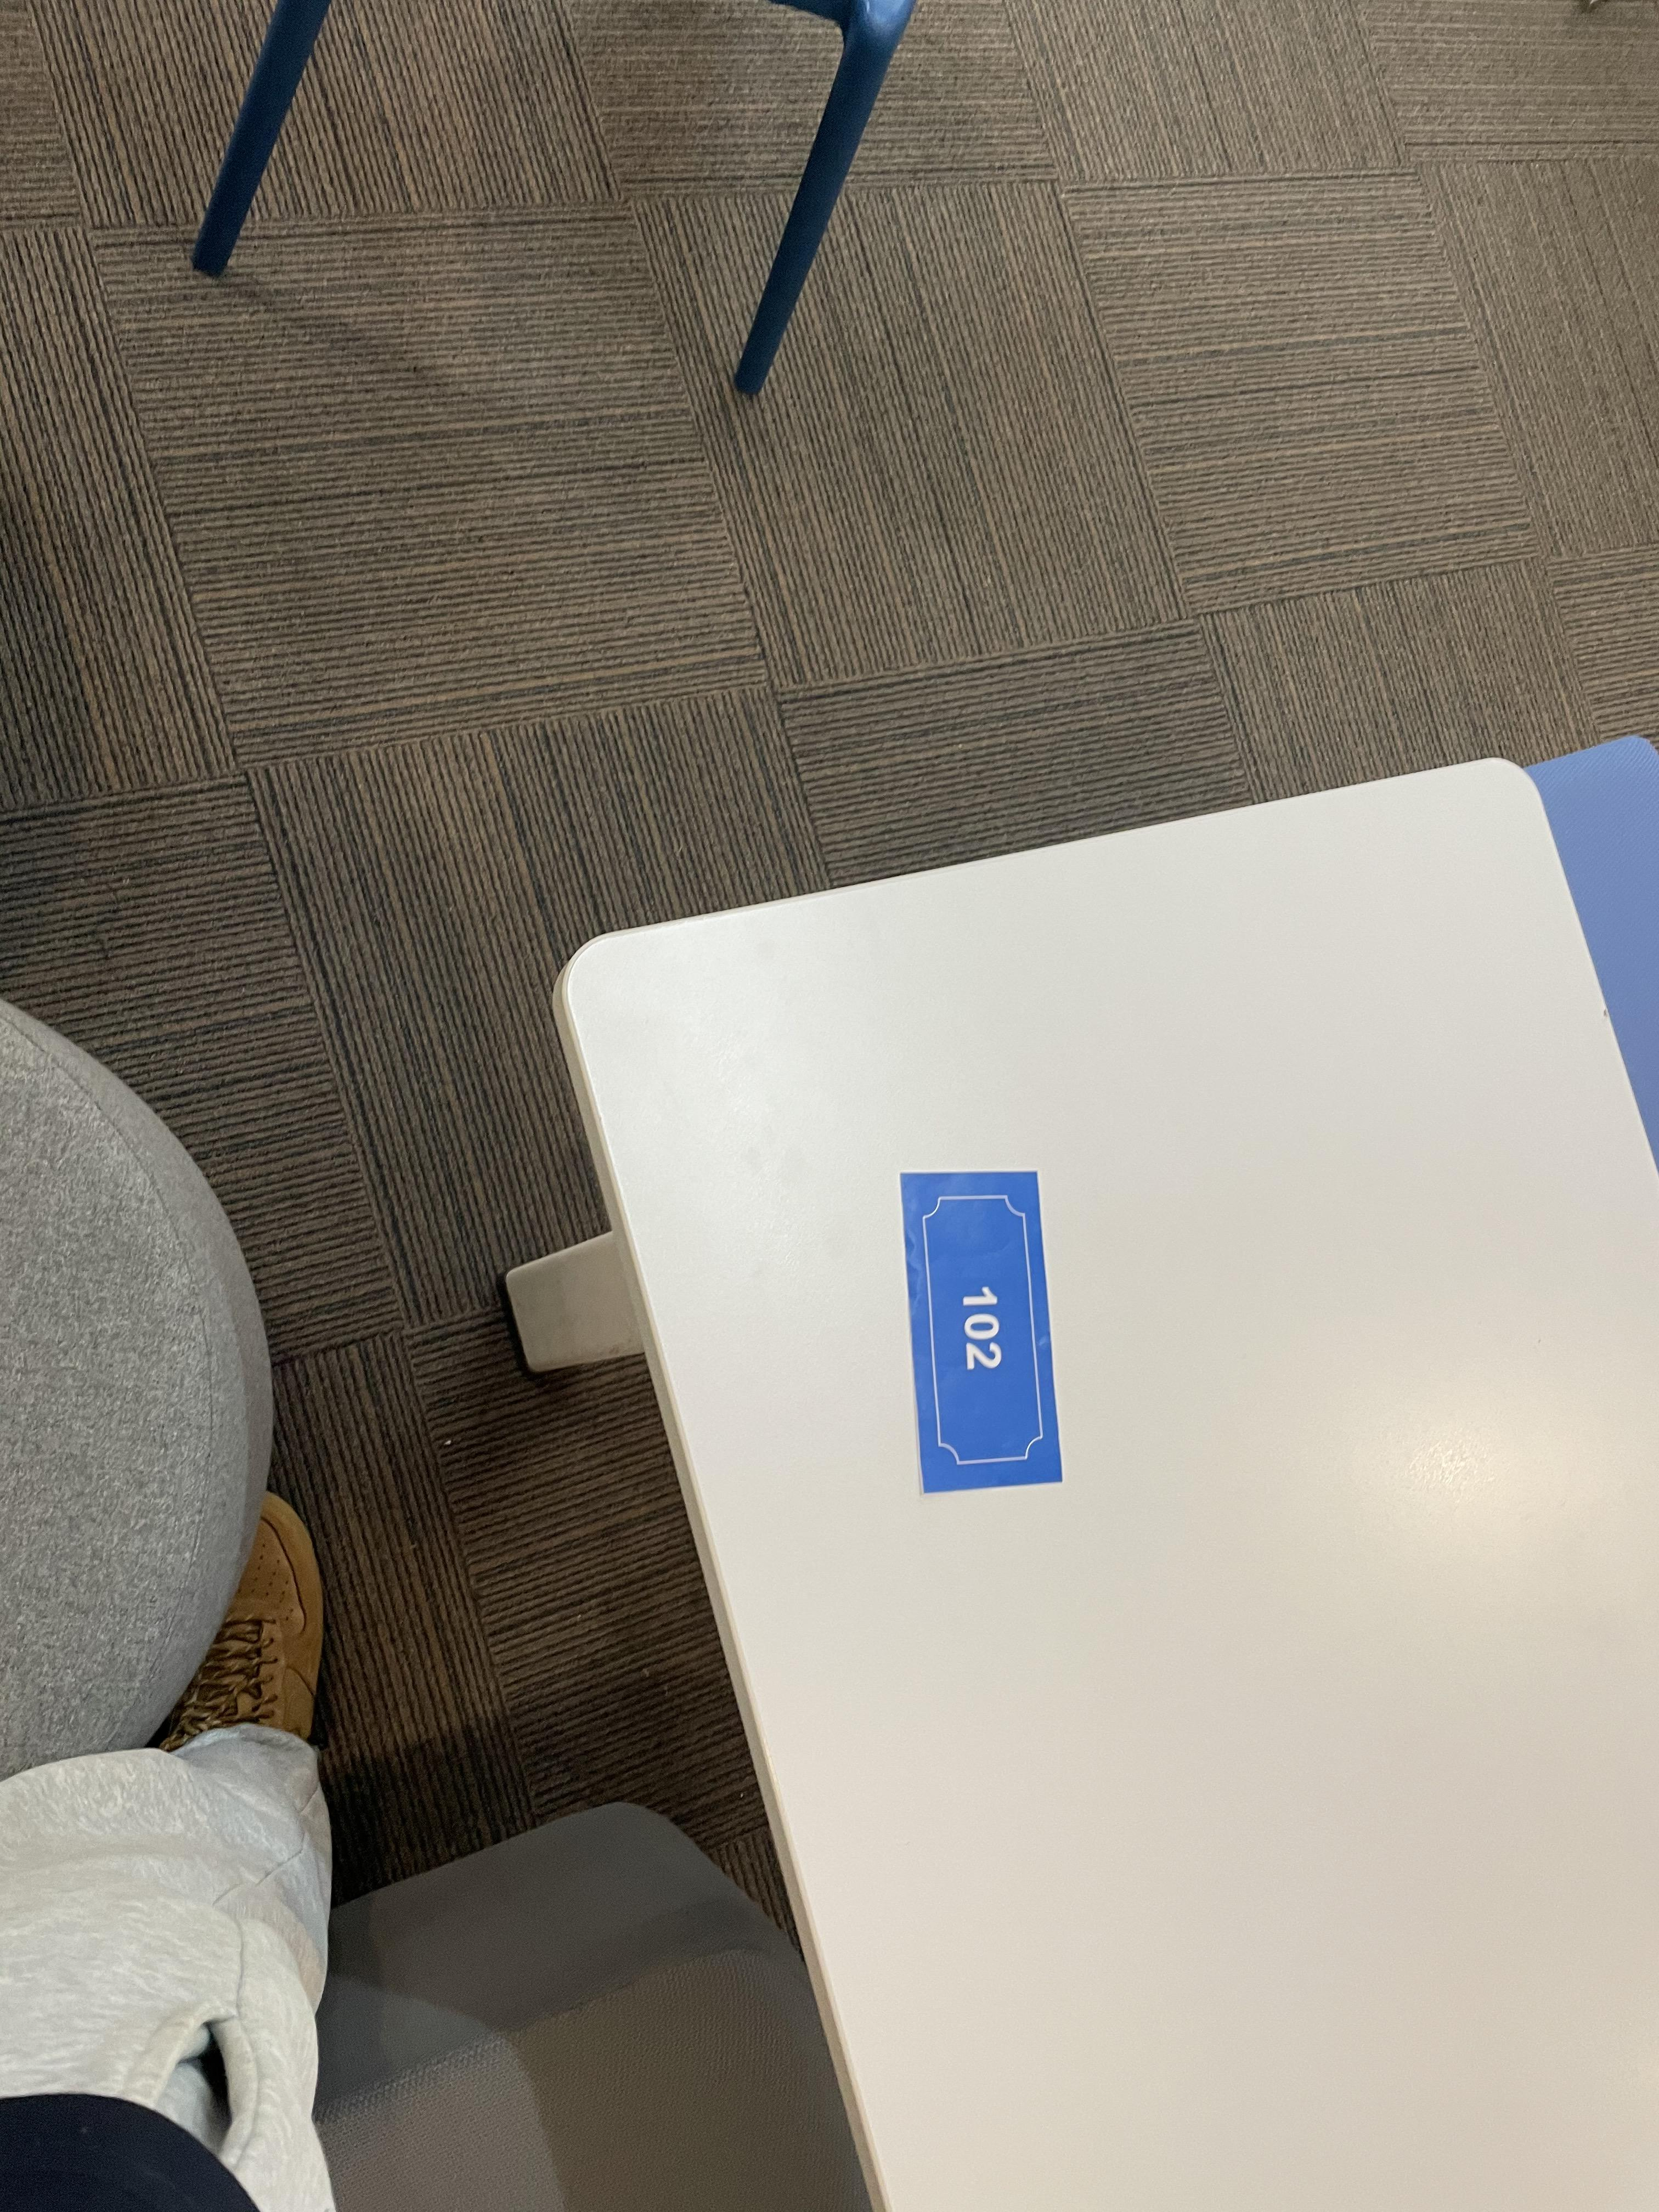Card: (879, 1142, 1100, 1508)
